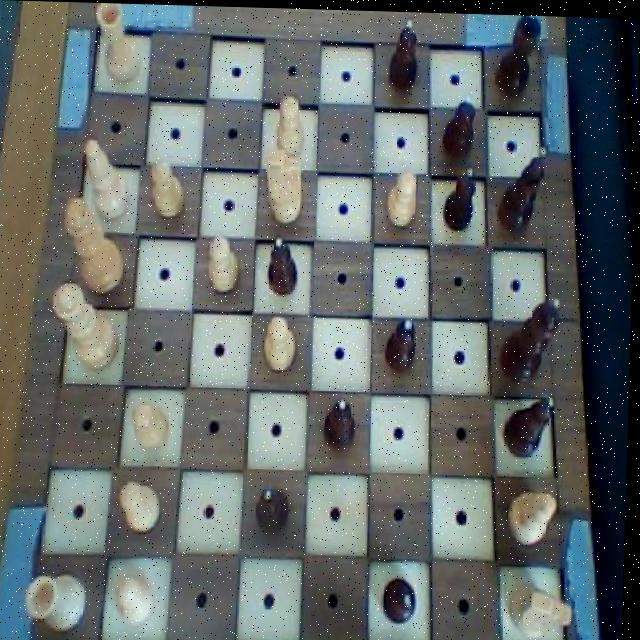bishop: (497, 136, 553, 236), (503, 387, 561, 460)
black-bishop: (499, 292, 566, 389)
black-knight: (441, 161, 482, 238), (438, 84, 479, 159), (386, 11, 423, 91), (266, 233, 304, 299), (254, 479, 296, 537), (323, 389, 362, 451), (382, 311, 422, 371), (379, 571, 423, 623)
black-queen: (490, 11, 543, 96)
black-rook: (81, 131, 134, 225), (509, 478, 566, 546)
white-bishop: (61, 194, 130, 296)
white-king: (507, 575, 581, 640), (263, 142, 309, 224)
white-knight: (117, 474, 168, 536), (146, 156, 190, 221), (114, 569, 160, 630), (204, 231, 245, 297), (130, 397, 176, 455), (273, 88, 310, 160), (384, 163, 422, 231), (262, 311, 300, 373)
white-pawn: (50, 280, 125, 374)
white-queen: (87, 2, 145, 88), (24, 567, 92, 634)
